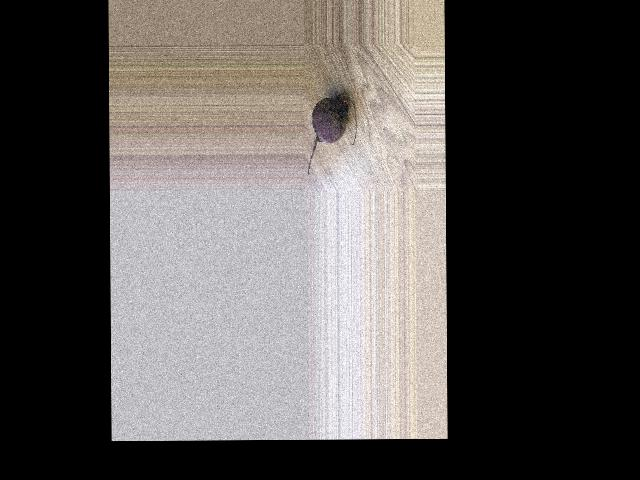beet: (307, 95, 356, 175)
